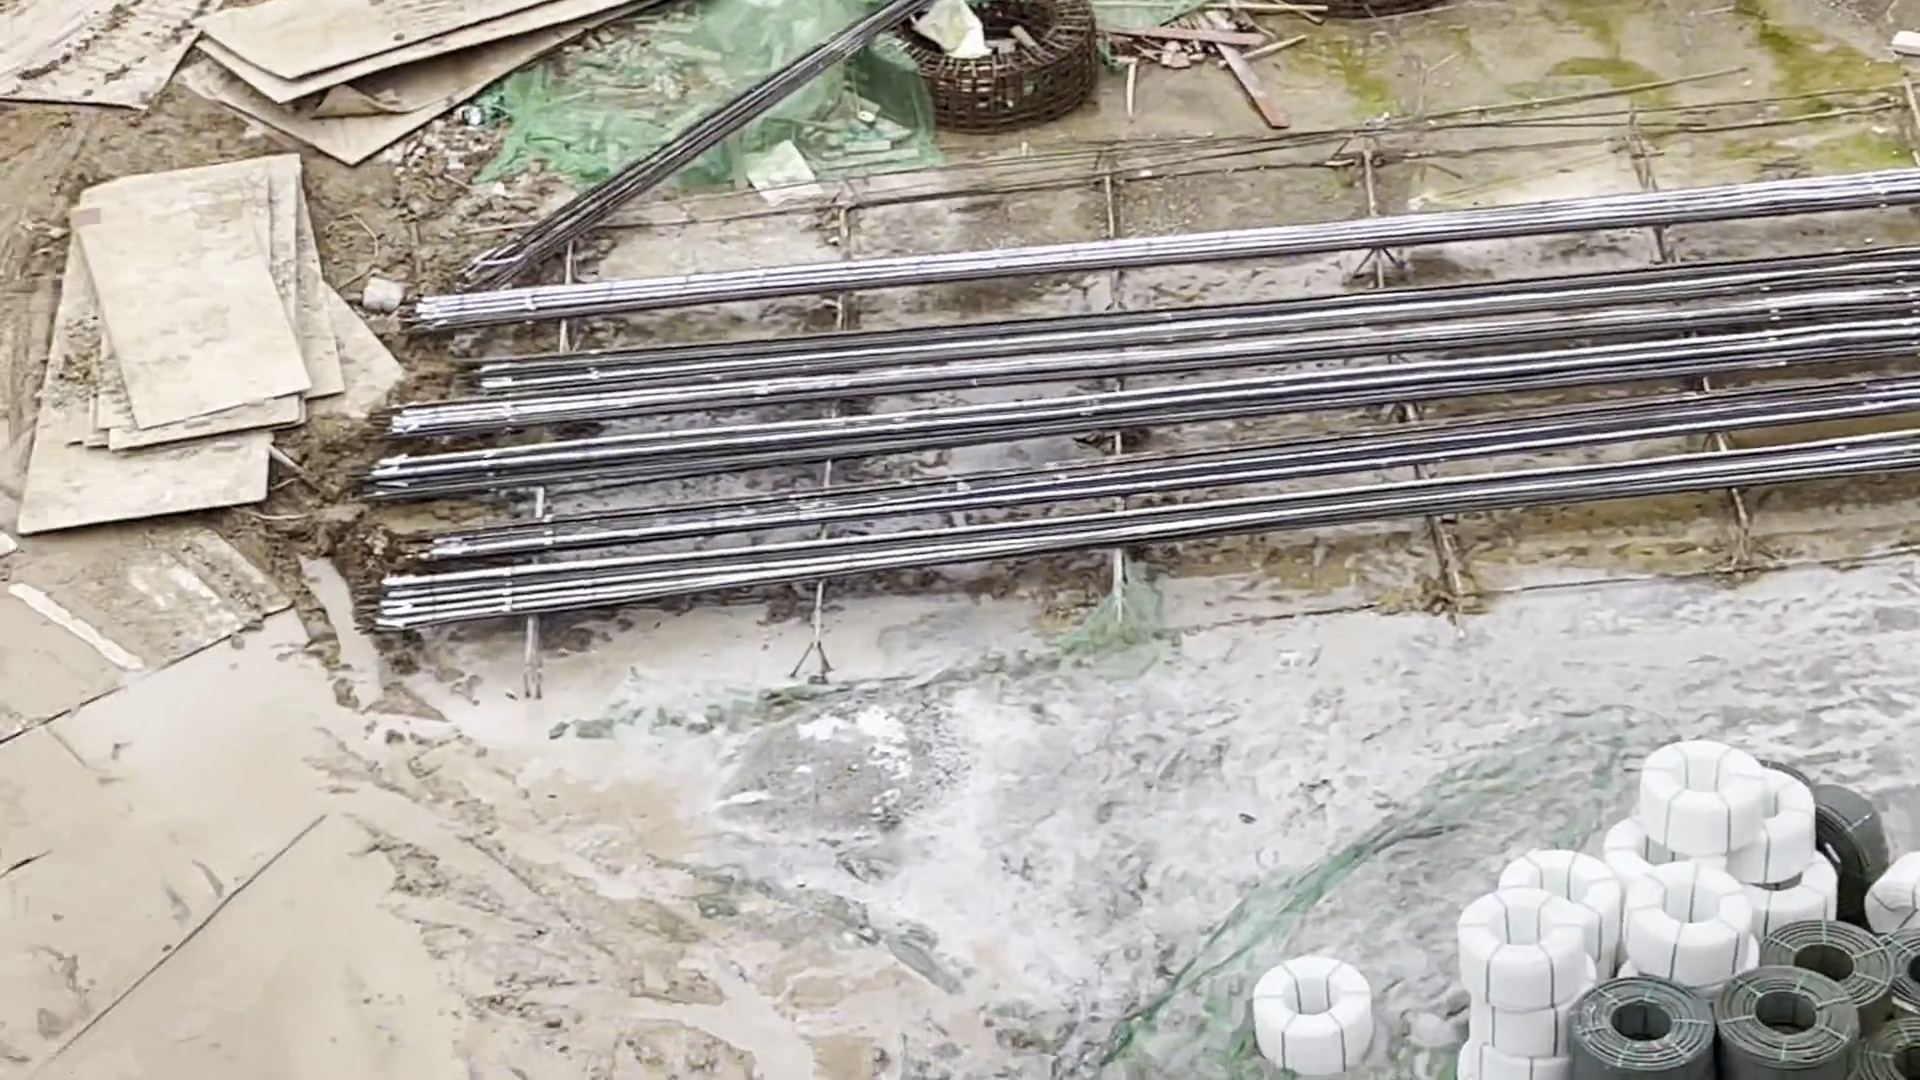rebar: (382, 257, 1920, 607)
